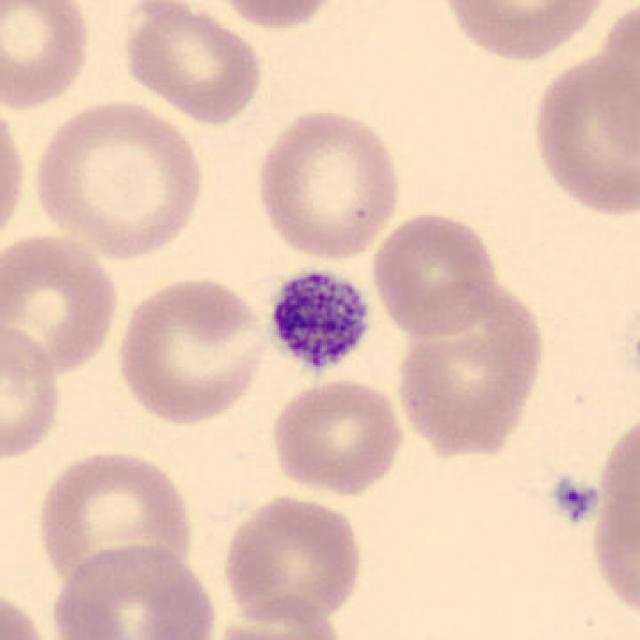Platelets: (261, 263, 375, 379), (547, 473, 601, 527)
RBC: (25, 97, 210, 261), (391, 273, 549, 460), (251, 103, 407, 264), (112, 272, 272, 428), (32, 446, 199, 587), (219, 492, 368, 624), (526, 46, 638, 220), (0, 229, 123, 381), (119, 0, 267, 125), (267, 374, 409, 499), (46, 539, 220, 640), (368, 208, 500, 340), (585, 402, 640, 633), (432, 0, 611, 63), (0, 0, 96, 115), (0, 319, 66, 466), (206, 594, 352, 640), (0, 97, 32, 256), (199, 0, 348, 33), (0, 580, 55, 640), (192, 619, 343, 640)
